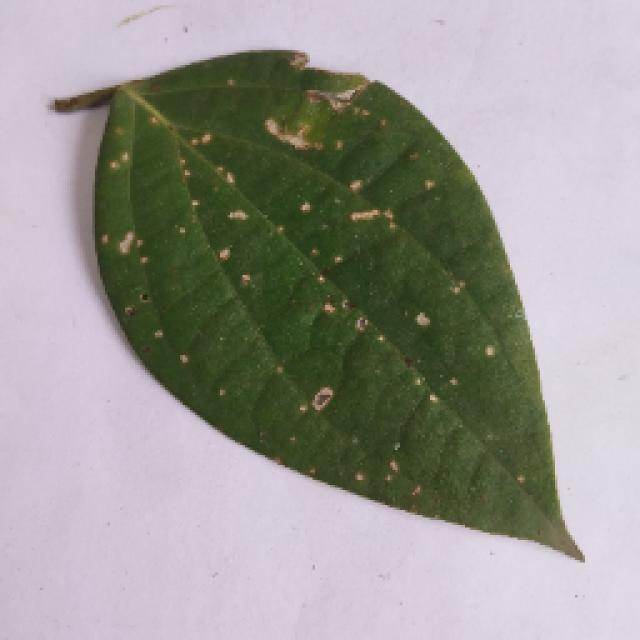pollu-disease: (32, 48, 598, 570)
